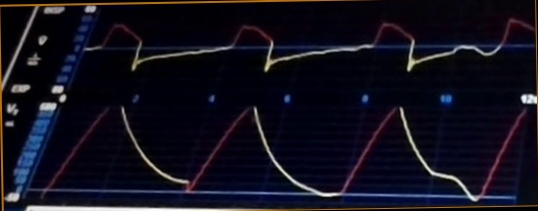Ineffective_effort Flow: (85, 12, 535, 75)
Ineffective_effort Volume: (44, 107, 526, 204)
